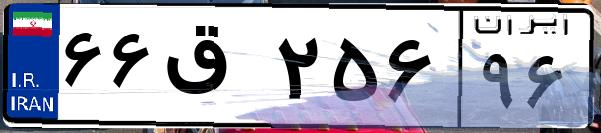2: (270, 28, 330, 110)
5: (330, 28, 385, 110)
6: (385, 28, 445, 110), (57, 26, 110, 100), (525, 38, 570, 115), (110, 28, 158, 98)
9: (475, 38, 525, 113)
ق: (158, 20, 270, 120)
